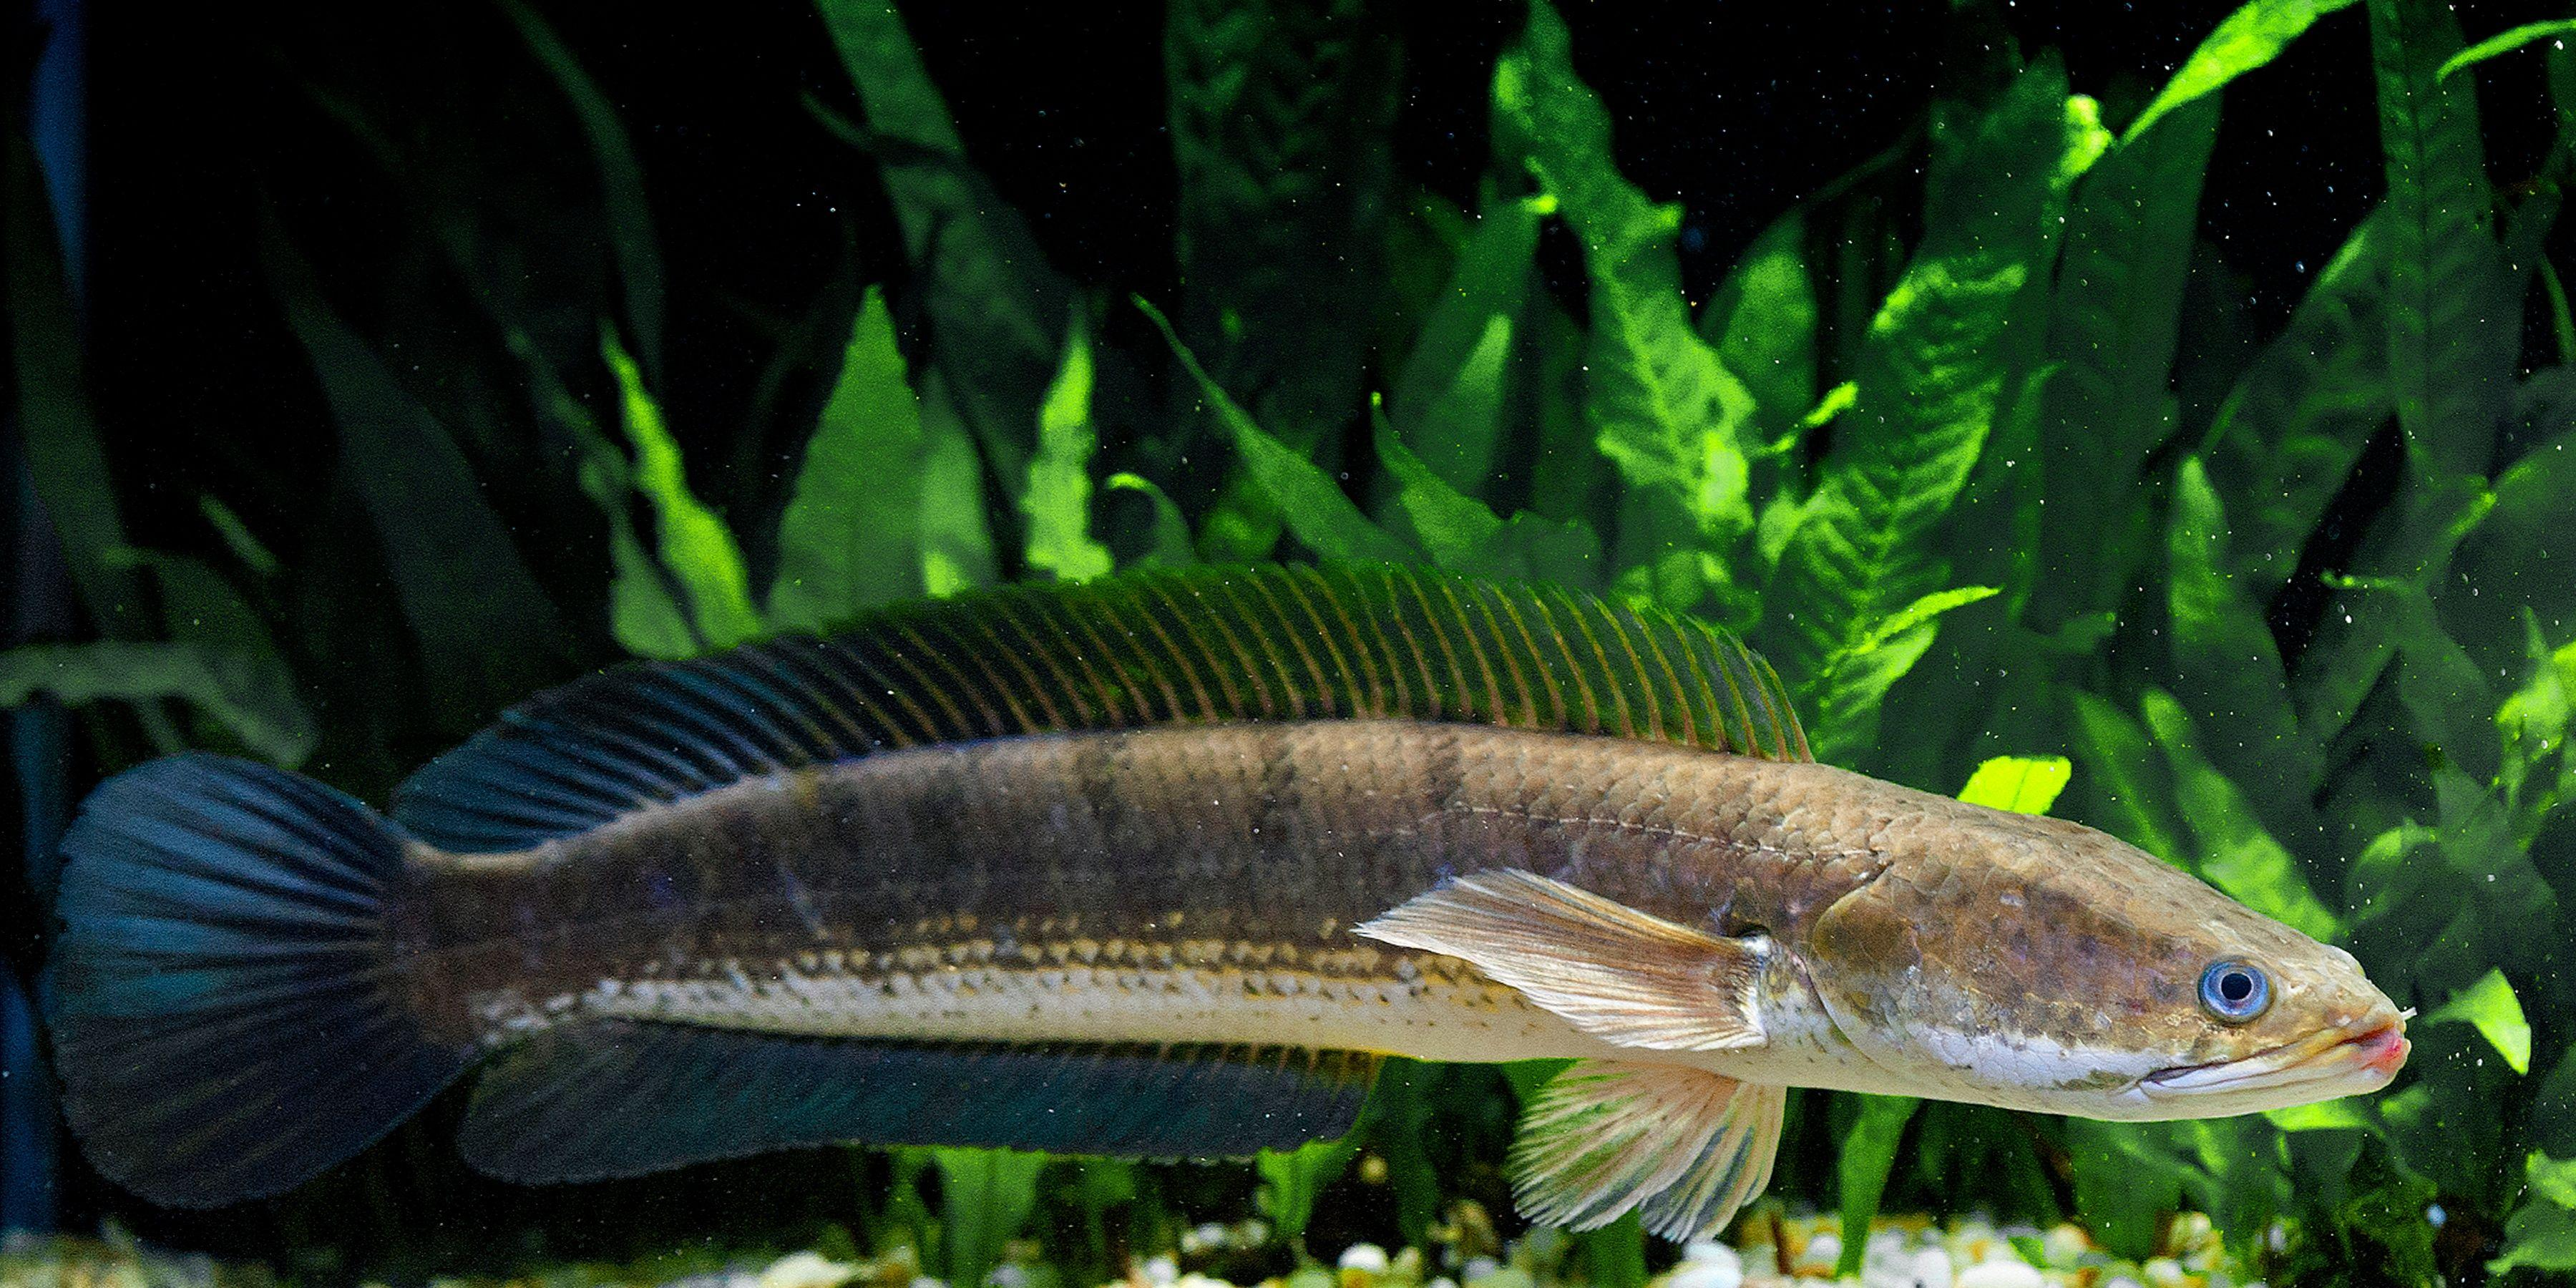Mudfish: (44, 583, 2417, 1255)
